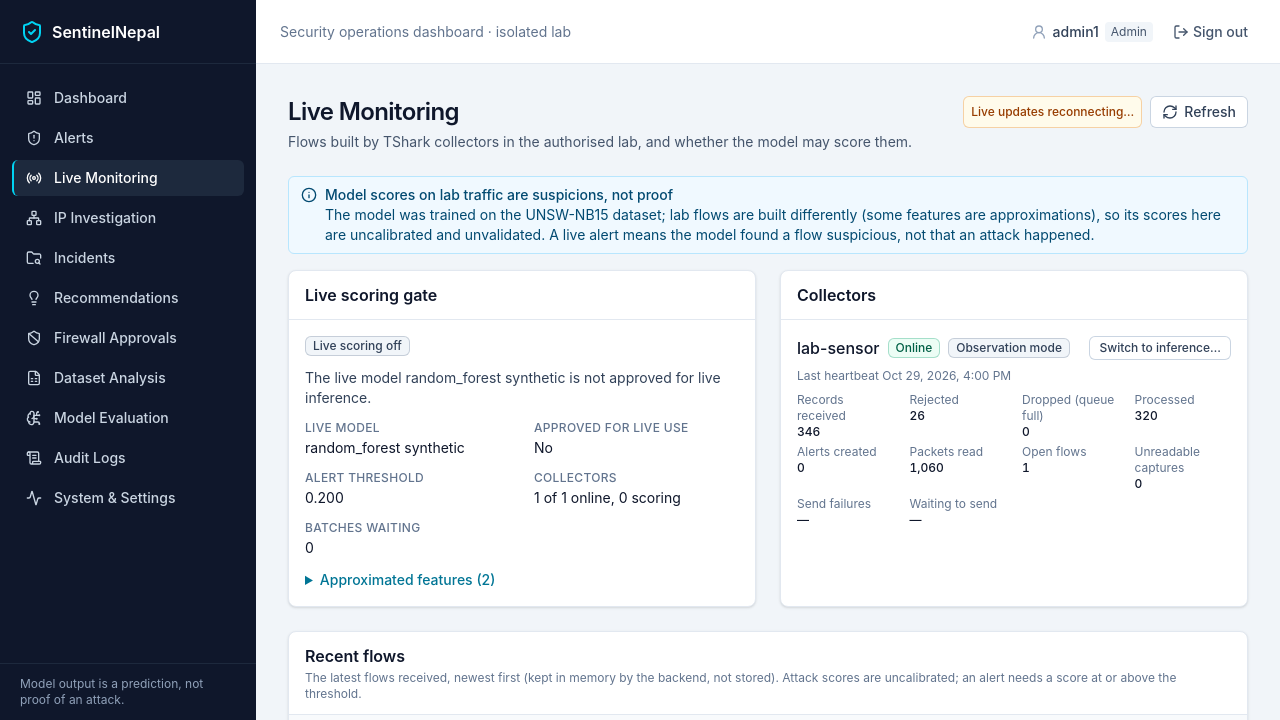
Test: LiveMonitoringPage › shows the server refusing inference while the gate is closed
The width and height of the screenshot is (1280, 720).
What coordinates should you click on to do the following:
click the button "Switch to inference…"
I would click on:
 (1160, 348)
Its box is [1090,336,1231,360].
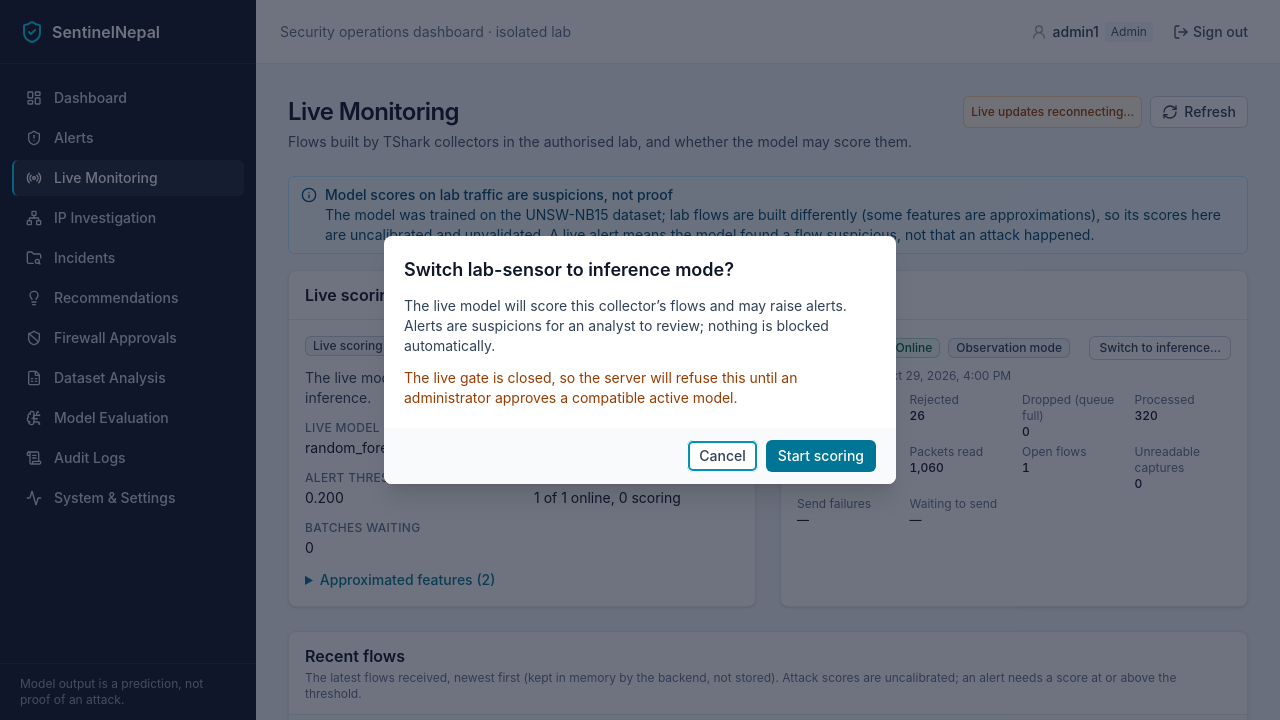
Check: the dialog shows "the server will refuse this", box [404,369,797,406]
What coordinates should you click on to do the following:
click the button "Start scoring"
I would click on:
 (821, 456)
Its box is [766,440,876,472].
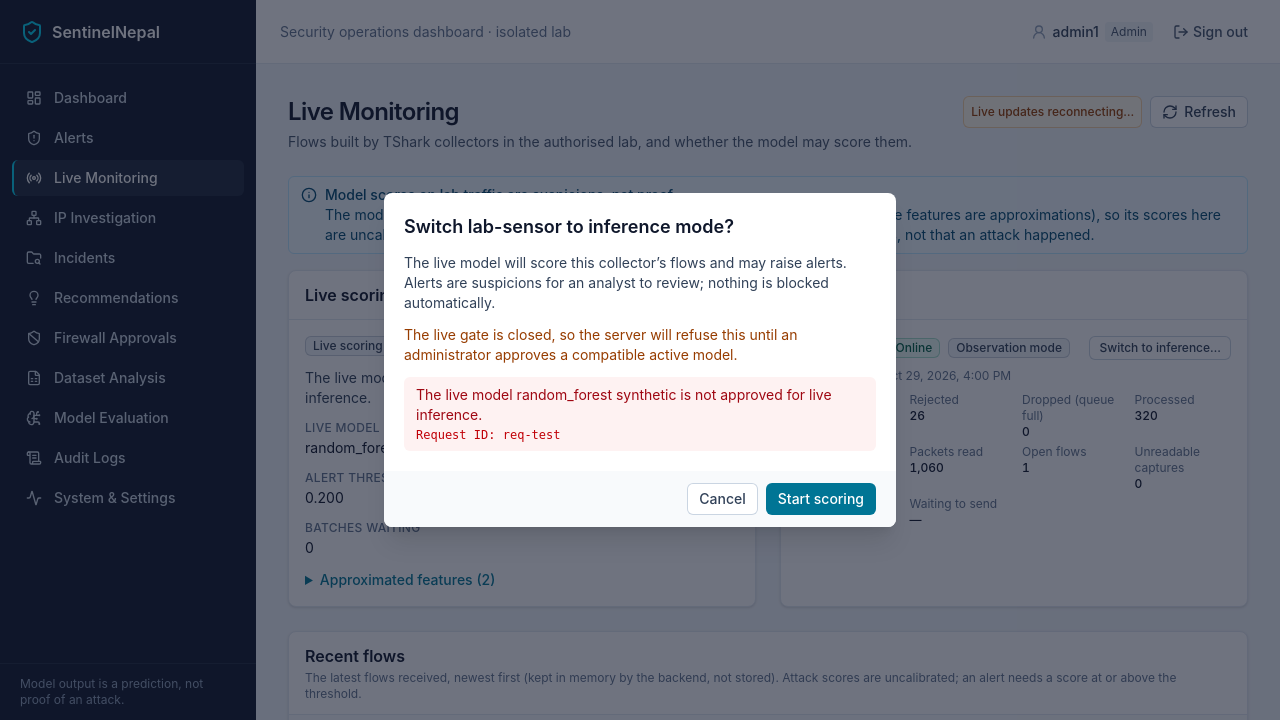
Check: the text "The live model random_forest synthetic is not approved for live inference." is shown, box [416,386,832,423]
